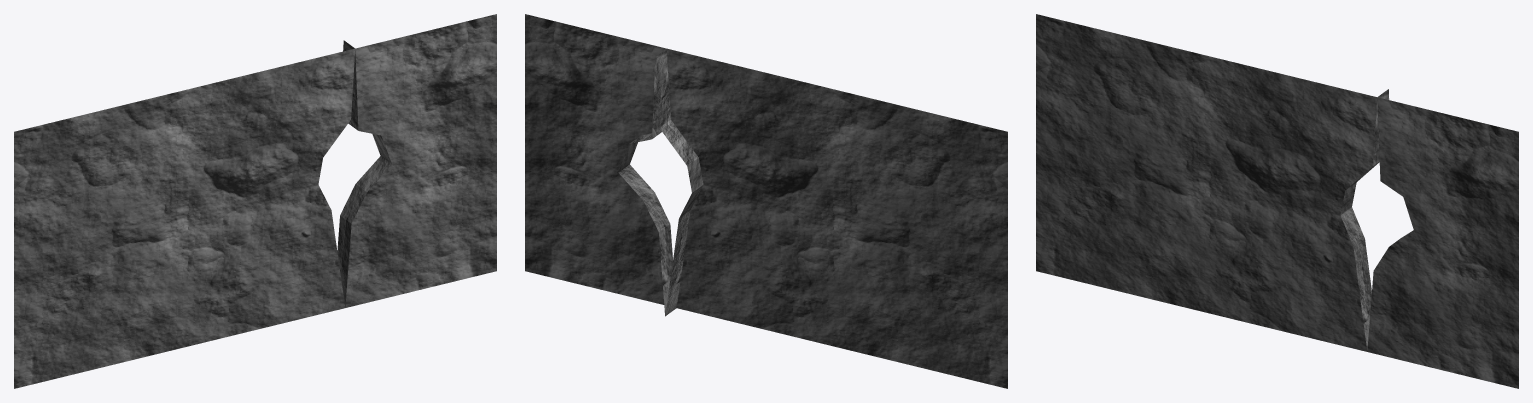
Rendered from GrietaPantallaInicio.FBX.
3 views of the same model, side by side, from view 1: azimuth 30°, elevation 25°; view 2: azimuth 150°, elevation 25°; view 3: azimuth 330°, elevation 25° (orthographic).
Parts seen in each view (by area): view 1: GrietaNivelesp5, GrietaNivelesp6, GrietaNivelesp3, GrietaNiveles7, GrietaNivelesp2, GrietaNivelesp1; view 2: GrietaNivelesp5, GrietaNivelesp6, GrietaNiveles7, GrietaNivelesp3, GrietaNivelesp2, GrietaNivelesp1; view 3: GrietaNivelesp5, GrietaNivelesp6, GrietaNiveles7, GrietaNivelesp3, GrietaNivelesp2, GrietaNivelesp1.
Boxes of the visible parts, x1,y1,x2,y2 form: GrietaNivelesp5: (14, 184, 345, 388); GrietaNivelesp6: (14, 132, 322, 254); GrietaNivelesp3: (337, 148, 496, 307); GrietaNiveles7: (14, 40, 355, 157); GrietaNivelesp2: (372, 14, 496, 164); GrietaNivelesp1: (348, 14, 496, 135); GrietaNivelesp5: (665, 184, 1007, 388); GrietaNivelesp6: (687, 132, 1007, 254); GrietaNiveles7: (655, 48, 1007, 165); GrietaNivelesp3: (525, 148, 672, 315); GrietaNivelesp2: (525, 14, 640, 172); GrietaNivelesp1: (525, 14, 666, 143); GrietaNivelesp5: (1036, 137, 1371, 351); GrietaNivelesp6: (1036, 14, 1356, 215); GrietaNiveles7: (1037, 14, 1379, 190); GrietaNivelesp3: (1367, 230, 1518, 388); GrietaNivelesp2: (1403, 132, 1518, 265); GrietaNivelesp1: (1377, 89, 1518, 196).
Bounding box in the file's own units: 24.19 × 1 × 12.32.
